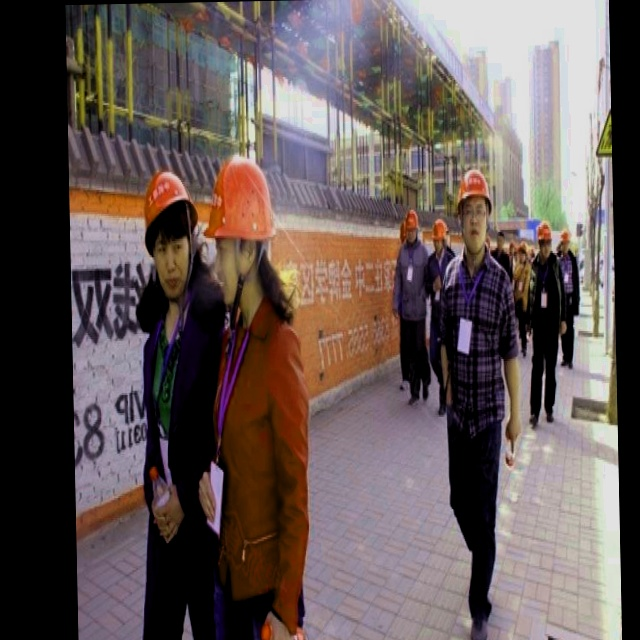Con_Casco: (209, 154, 270, 297), (144, 170, 196, 289), (456, 170, 491, 248)
